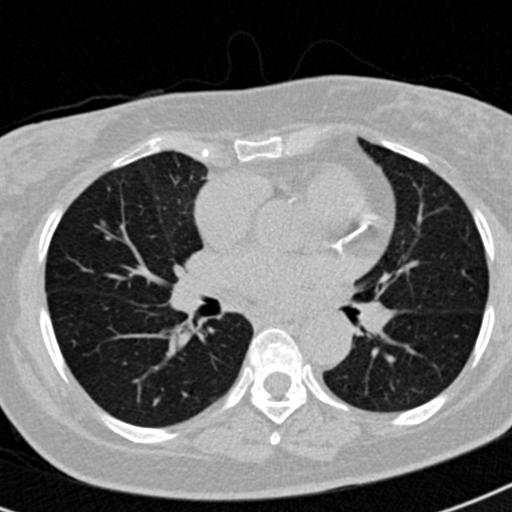nodule: (97, 218, 110, 231)
